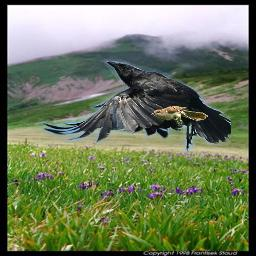Crow: (38, 59, 231, 153)
Cuckoo: (151, 106, 208, 126)
